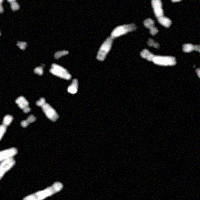chromosome: (97, 23, 136, 60), (23, 181, 63, 200), (140, 48, 175, 65), (0, 158, 14, 200), (151, 0, 171, 28), (36, 98, 57, 122), (0, 114, 13, 149), (50, 64, 71, 79), (0, 148, 18, 163), (15, 96, 30, 113), (144, 18, 158, 33), (20, 114, 35, 127), (182, 44, 200, 54), (4, 0, 19, 11), (68, 77, 78, 93), (54, 50, 68, 59), (147, 39, 159, 49), (16, 41, 26, 51), (33, 64, 42, 75), (195, 68, 200, 82), (171, 0, 200, 1), (0, 0, 2, 13)
